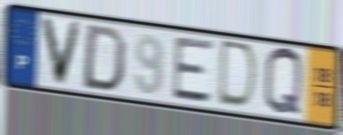9: (132, 31, 167, 98)
D: (79, 23, 130, 94), (215, 38, 261, 114)
E: (170, 36, 218, 106)
Q: (262, 45, 305, 119)
V: (38, 14, 85, 90)
